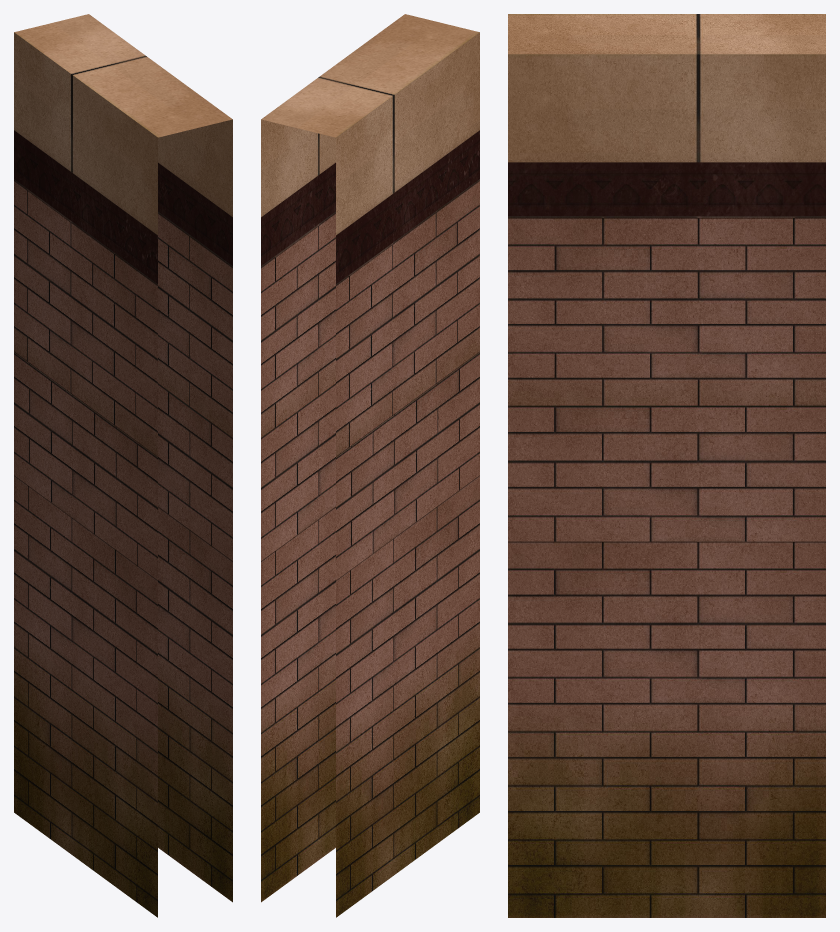
Rendered from Wall_01.fbx.
The picture shows the model from 3 angles, left to right: view 1: azimuth 30°, elevation 25°; view 2: azimuth 150°, elevation 25°; view 3: azimuth 270°, elevation 25°; orthographic projection. The views are drawn at different scales.
Visible parts, largest first — view 1: pCube25; view 2: pCube25; view 3: pCube25.
Part boxes in pixels (left/top/right/bottom): pCube25: left=14, top=14, right=232, bottom=917; pCube25: left=261, top=14, right=479, bottom=917; pCube25: left=508, top=14, right=825, bottom=917.
Size of the model in its own units: 0.3 by 3 by 1.
